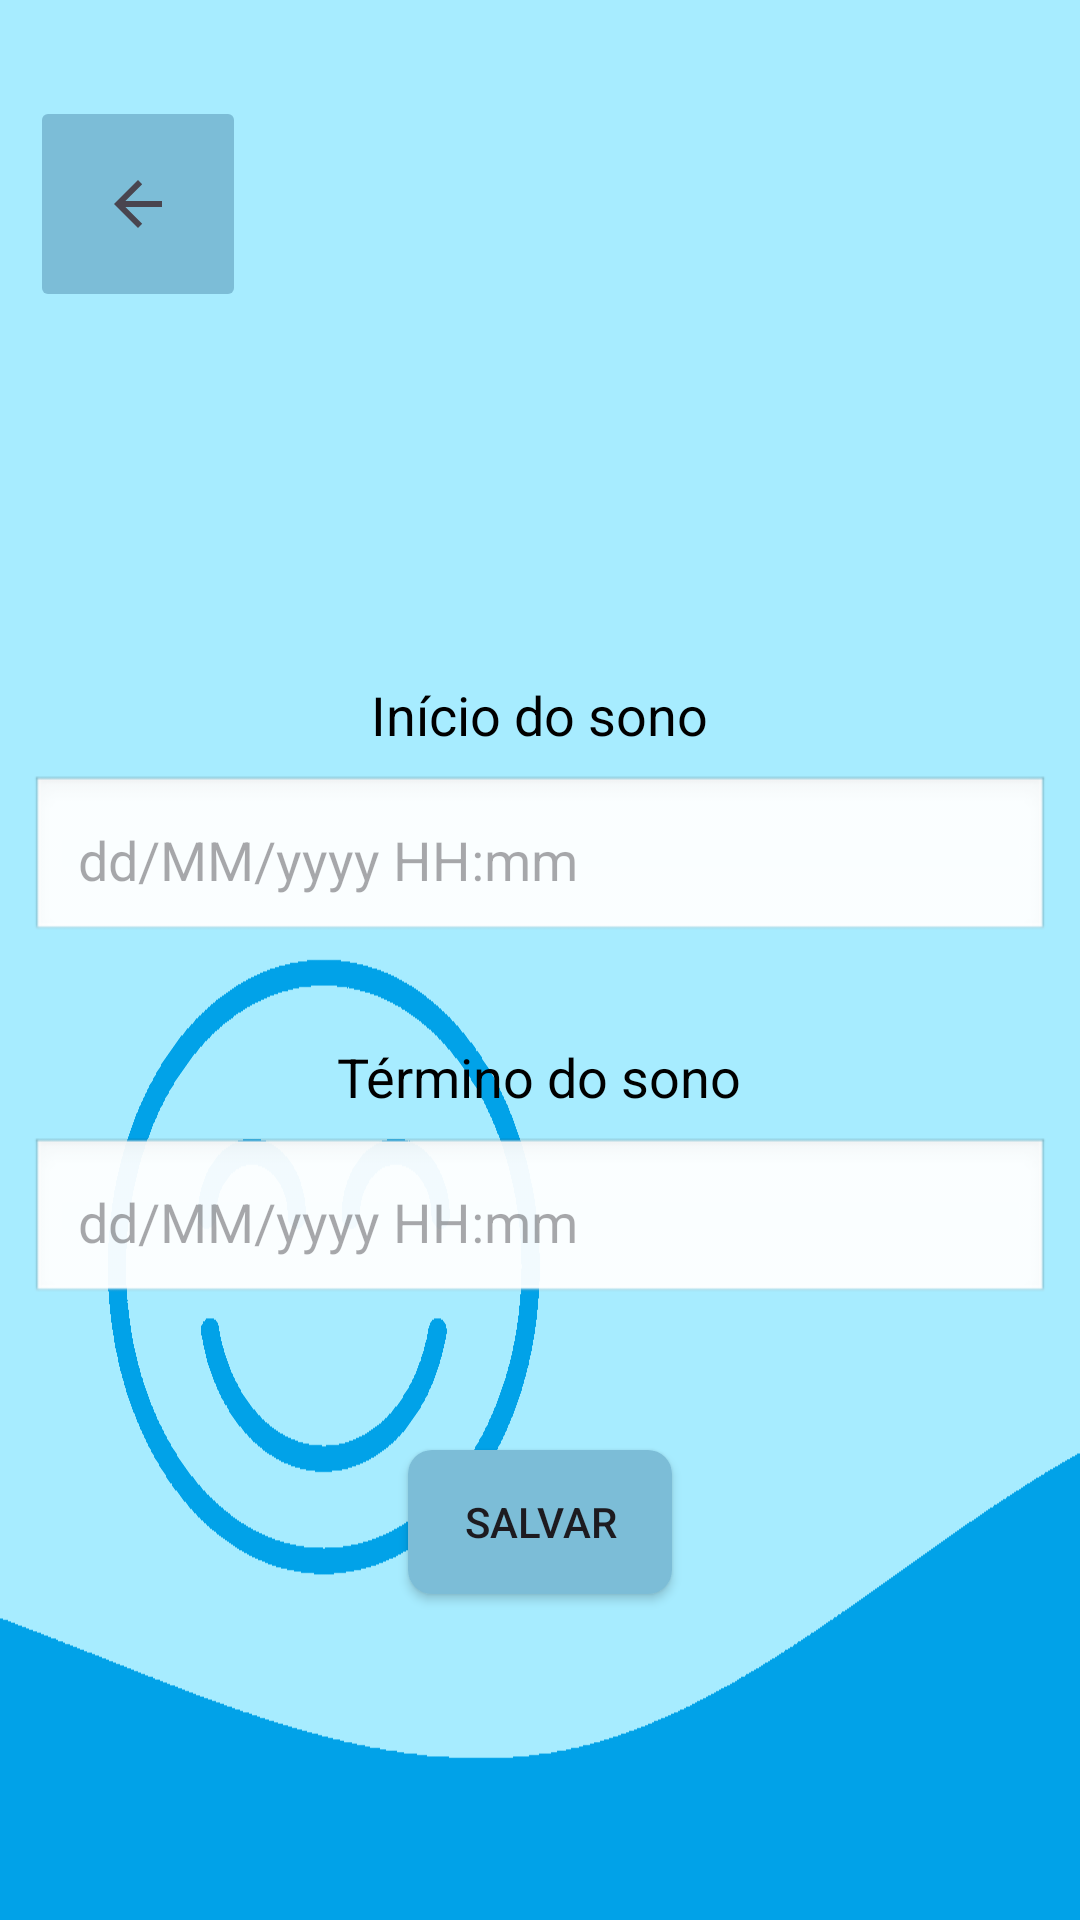

Locate icon controls on the screen. Image size 1080 x 1920, boxes as (x1, y1, x2, y2).
Voltar: (42, 114, 234, 294)
